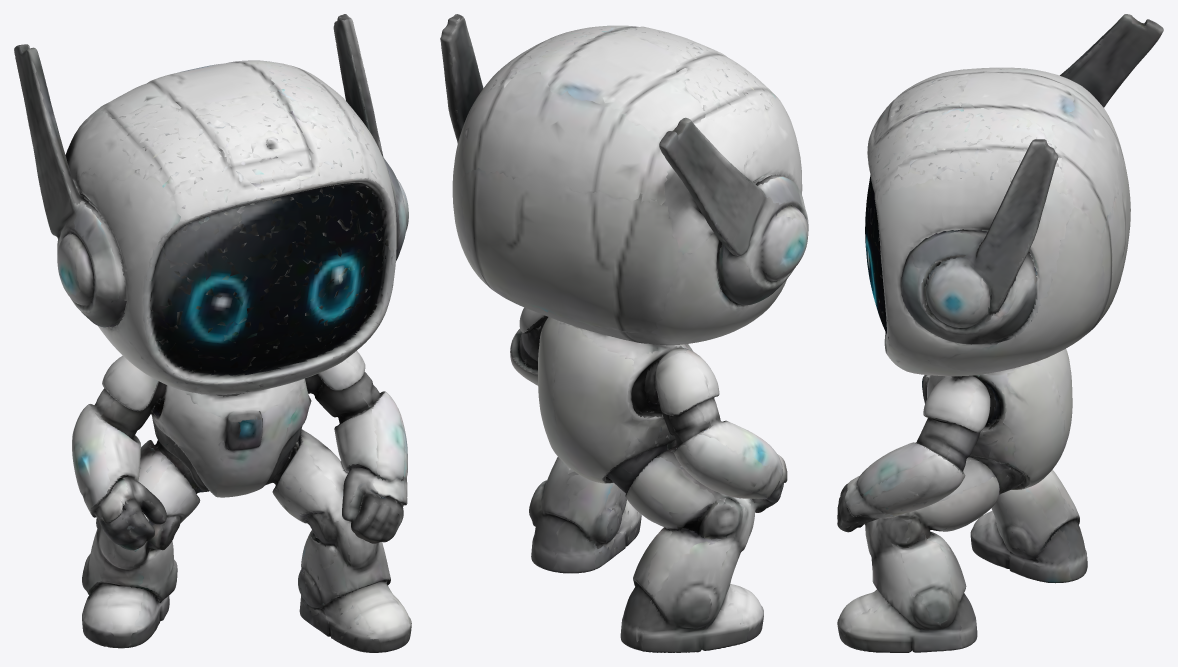
Rendered from robot_accroupi.glb.
3 views of the same model, side by side, from view 1: azimuth 30°, elevation 25°; view 2: azimuth 150°, elevation 25°; view 3: azimuth 270°, elevation 25° (orthographic). The views are drawn at different scales.
Visible parts, largest first — view 1: geometry_0; view 2: geometry_0; view 3: geometry_0.
Part boxes in pixels (x1,y1,x2,y2): geometry_0: (14,14,411,652); geometry_0: (440,14,808,652); geometry_0: (837,14,1163,652).
Bounding box in the file's own units: 0.6144 × 1 × 0.5636.
Materials: 1 (1 with a texture image).
